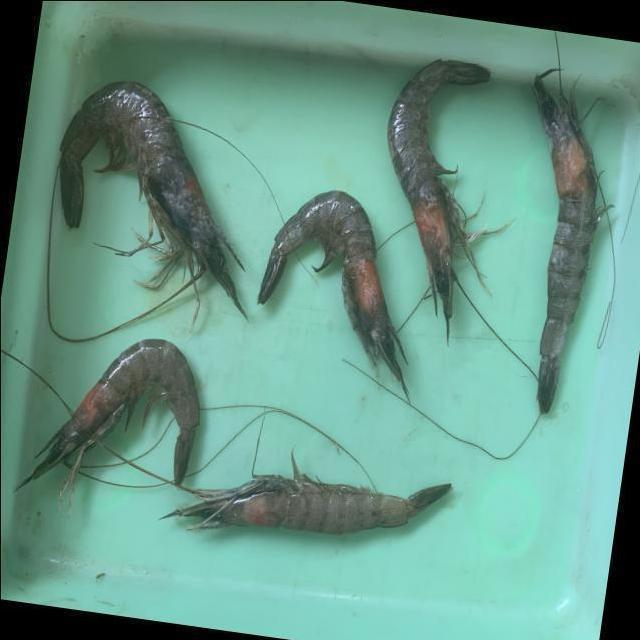shrimp: (58, 79, 246, 315), (257, 189, 408, 395), (13, 338, 198, 499), (387, 58, 490, 342), (533, 68, 606, 412), (162, 454, 451, 534)
